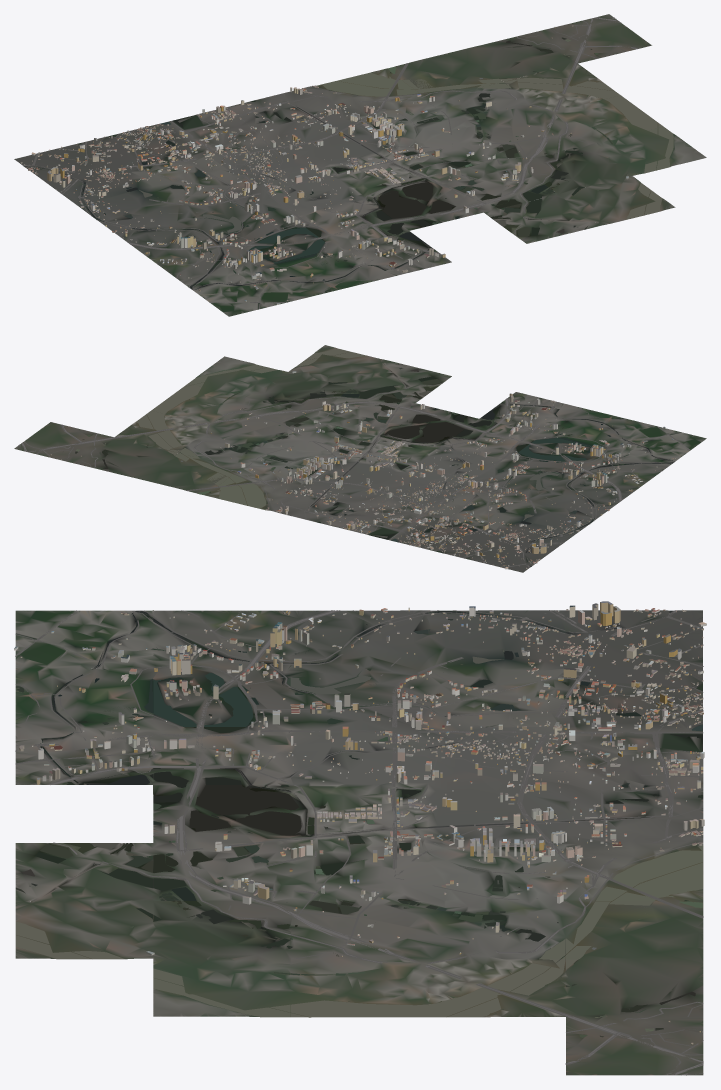
3 renders of one model, top to bottom at view 1: azimuth 30°, elevation 25°; view 2: azimuth 150°, elevation 25°; view 3: azimuth 270°, elevation 25°, orthographic. The views are drawn at different scales.
Visible parts, largest first — view 1: ground, buildings, water, roads; view 2: ground, buildings, water, roads; view 3: ground, water, buildings, roads.
Boxes of the visible parts, bbox=[...] form: ground: bbox=[14, 14, 706, 316]; buildings: bbox=[20, 25, 628, 304]; water: bbox=[42, 37, 673, 292]; roads: bbox=[22, 14, 638, 309]; ground: bbox=[14, 345, 706, 572]; buildings: bbox=[50, 371, 675, 569]; water: bbox=[75, 348, 674, 561]; roads: bbox=[15, 383, 689, 567]; ground: bbox=[15, 610, 703, 1075]; water: bbox=[15, 611, 702, 1037]; buildings: bbox=[14, 601, 706, 1044]; roads: bbox=[15, 610, 703, 1075].
Size of the model in its own units: 11245 by 181 by 7064.
